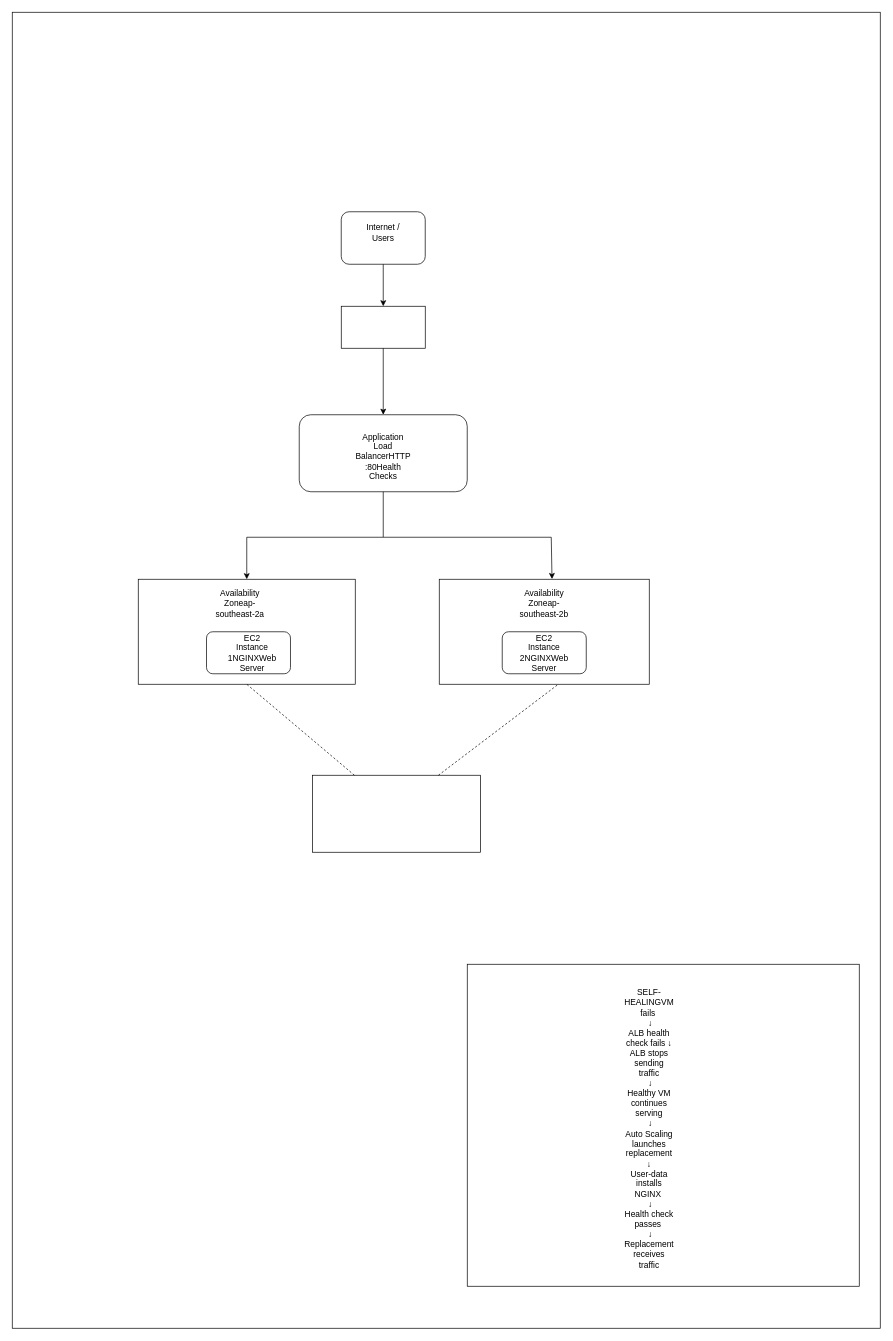
This 893x1341 diagram has some shape labels left out. Each missing label, with the centre of its shape:
"Auto Scaling Group Min: 2 | Desired: 2 | Max: 2" goes at [396,813].
"Internet Gateway" goes at [383,327].
